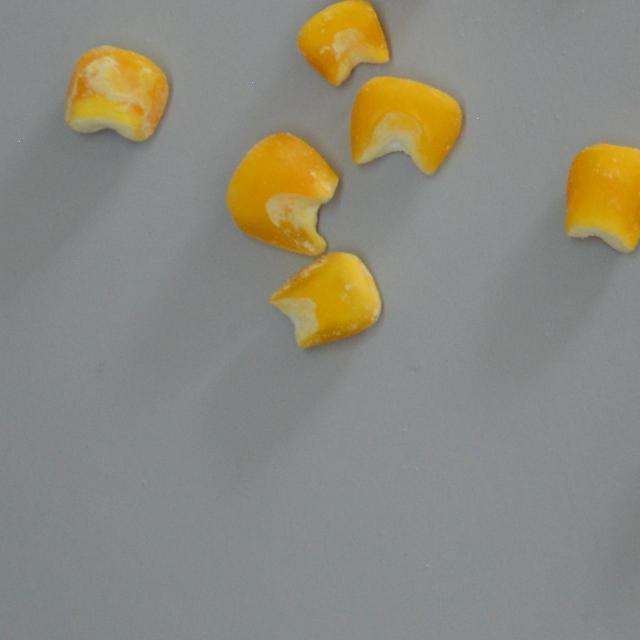no_canjicado: (346, 74, 464, 174), (562, 142, 640, 254)
pelicula: (226, 132, 340, 255), (268, 250, 384, 352), (63, 42, 172, 142), (296, 0, 390, 86)
